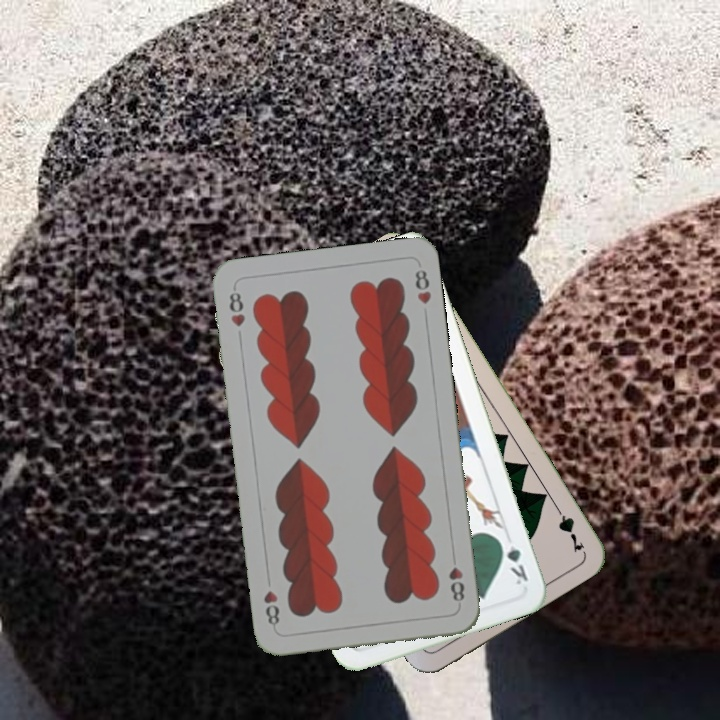G7: (549, 499, 587, 555)
GK: (495, 534, 531, 588)
H8: (225, 283, 248, 330), (445, 563, 467, 604)
